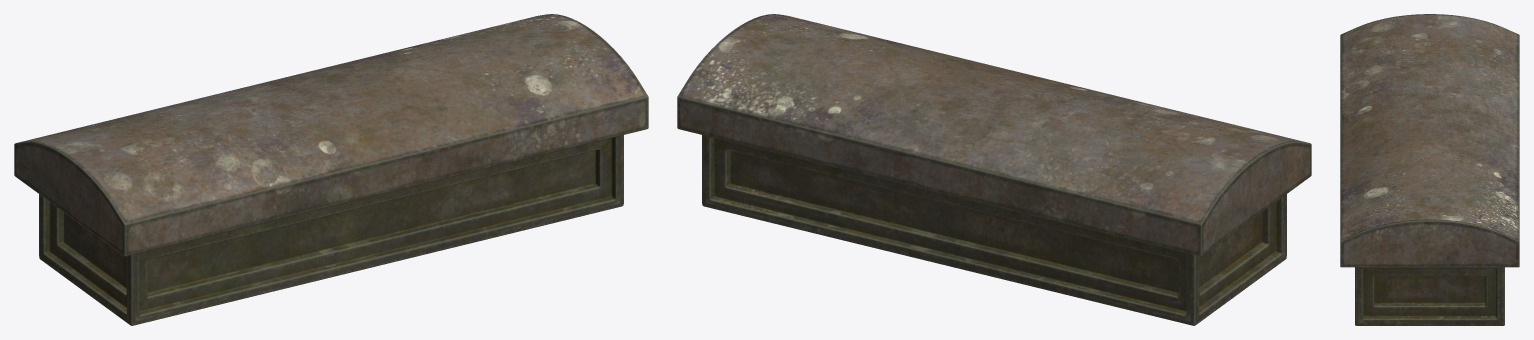
File: SM_TombsE_001.fbx
3 views of the same model, side by side, from view 1: azimuth 30°, elevation 25°; view 2: azimuth 150°, elevation 25°; view 3: azimuth 270°, elevation 25° (orthographic). The views are drawn at different scales.
Parts seen in each view (by area): view 1: SM_TombsE_001_LOD0; view 2: SM_TombsE_001_LOD0; view 3: SM_TombsE_001_LOD0.
Boxes of the visible parts, x1,y1,x2,y2 form: SM_TombsE_001_LOD0: (14,14,648,325); SM_TombsE_001_LOD0: (677,14,1311,325); SM_TombsE_001_LOD0: (1340,14,1519,325).
Size of the model in its own units: 195 by 71.36 by 49.01.
1 material, 1 textured.
